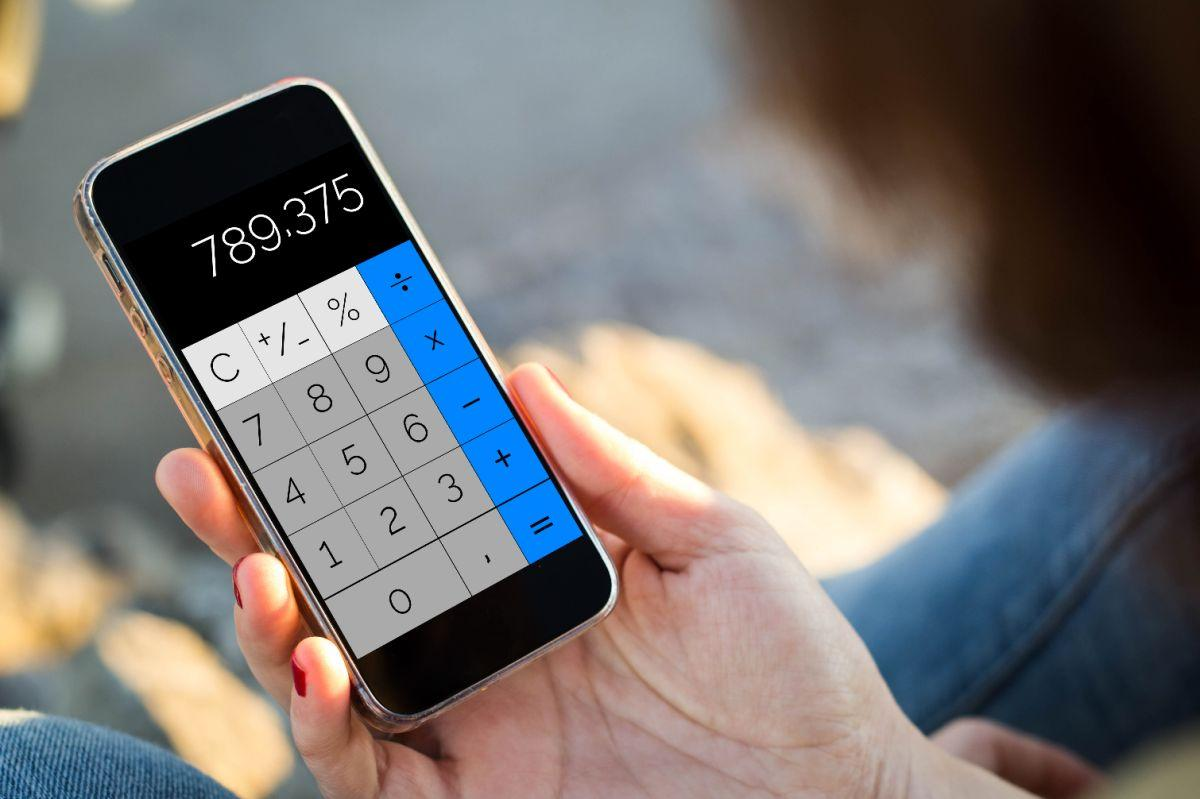Calculator: (161, 161, 593, 666)
